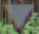Give way: (1, 1, 35, 33)
